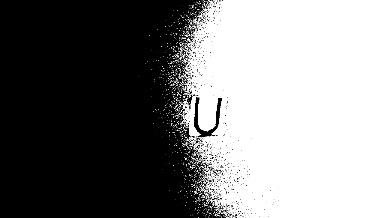U: (191, 95, 225, 135)
